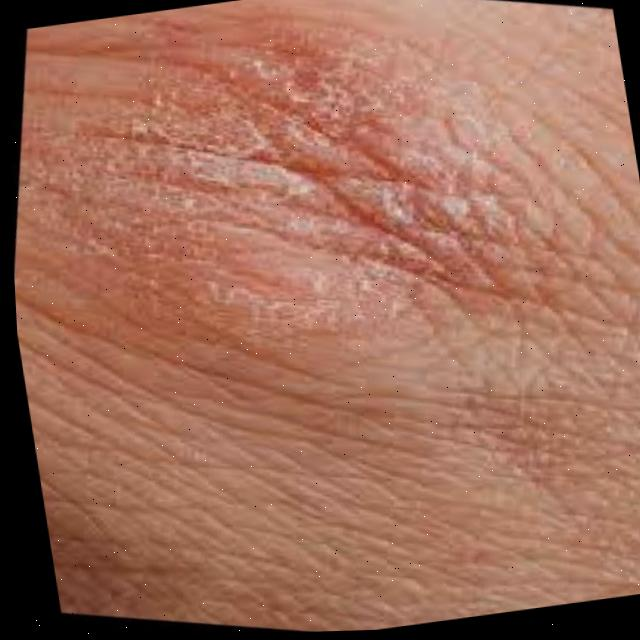Eczema: (121, 43, 544, 329)
